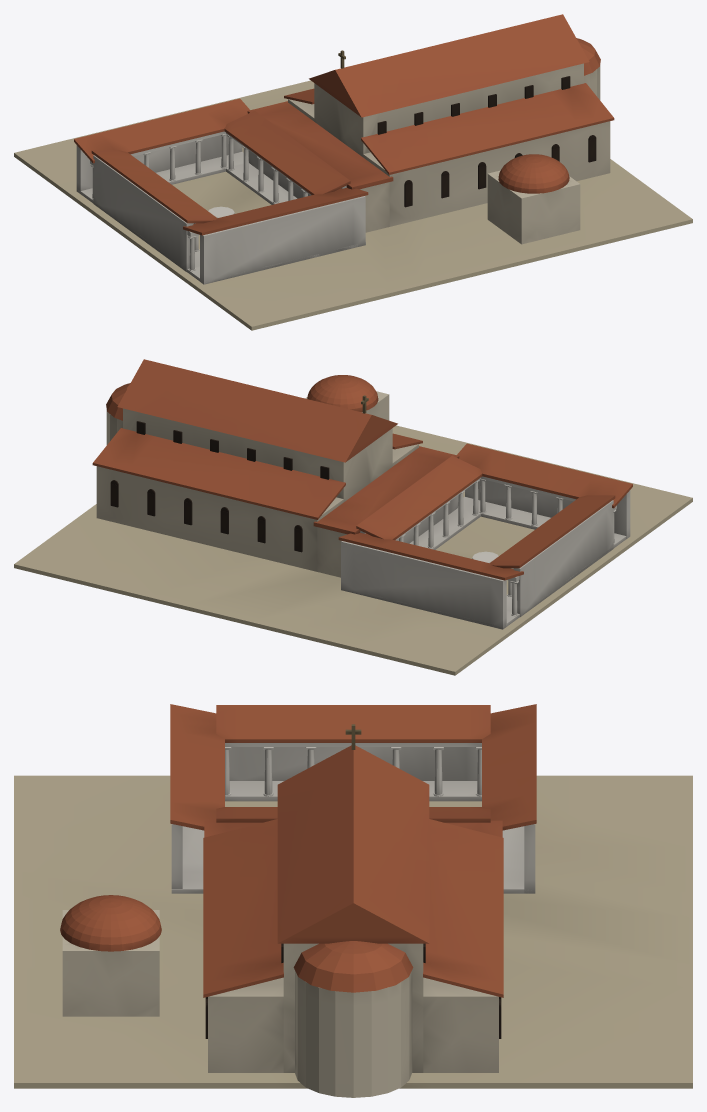
Rendered from st-athanasius.glb.
3 renders of one model, top to bottom at view 1: azimuth 30°, elevation 25°; view 2: azimuth 150°, elevation 25°; view 3: azimuth 270°, elevation 25°, orthographic. The views are drawn at different scales.
Visible parts, largest first — view 1: p0_court, p1_church, p2_baptistery; view 2: p0_court, p1_church, p2_baptistery; view 3: p0_court, p1_church, p2_baptistery.
Part boxes in pixels (x1,y1,x2,y2): p0_court: [14, 80, 692, 330]; p1_church: [247, 14, 614, 232]; p2_baptistery: [487, 154, 580, 244]; p0_court: [14, 425, 692, 675]; p1_church: [92, 359, 459, 577]; p2_baptistery: [305, 375, 389, 420]; p0_court: [14, 704, 692, 1088]; p1_church: [203, 724, 503, 1097]; p2_baptistery: [60, 895, 161, 1016].
Size of the model in its own units: 62.94 by 18.39 by 56.
